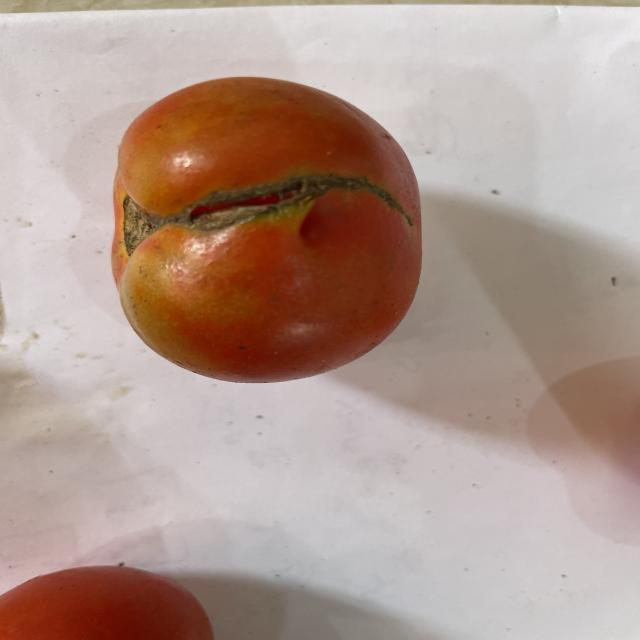tomato_cracking: (149, 170, 418, 240)
